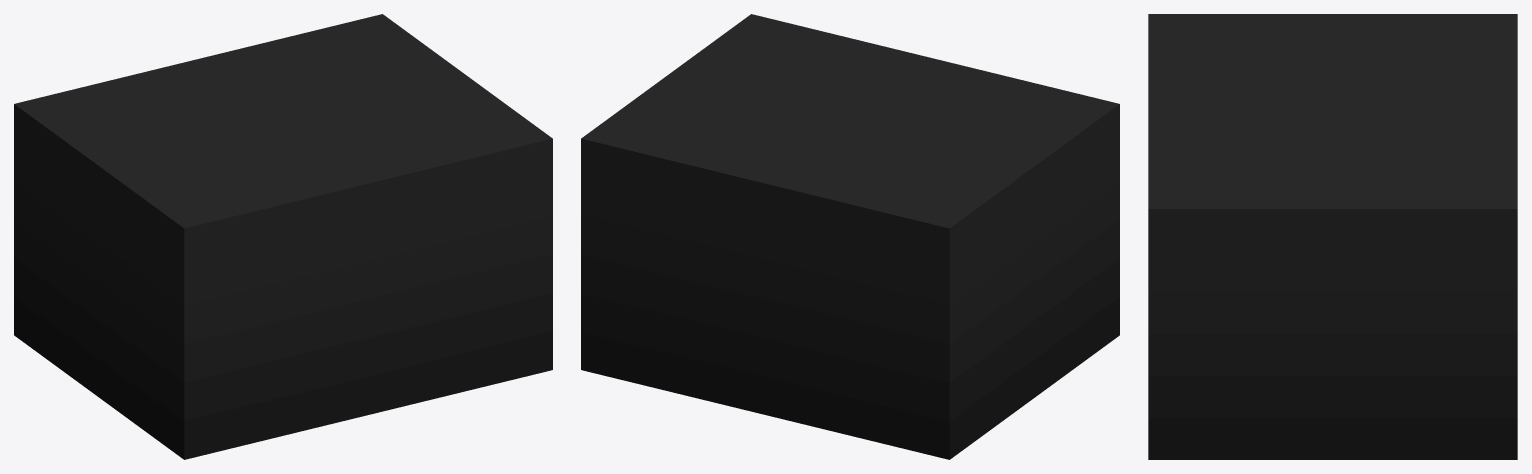
File: Spine056.fbx
3 renders of one model, left to right at view 1: azimuth 30°, elevation 25°; view 2: azimuth 150°, elevation 25°; view 3: azimuth 270°, elevation 25°, orthographic. The views are drawn at different scales.
Visible parts, largest first — view 1: Spine056; view 2: Spine056; view 3: Spine056.
Part boxes in pixels (<box>): Spine056: <box>14,14,552,459</box>; Spine056: <box>581,14,1119,459</box>; Spine056: <box>1148,14,1517,459</box>.
Size of the model in its own units: 10 by 6 by 8.
